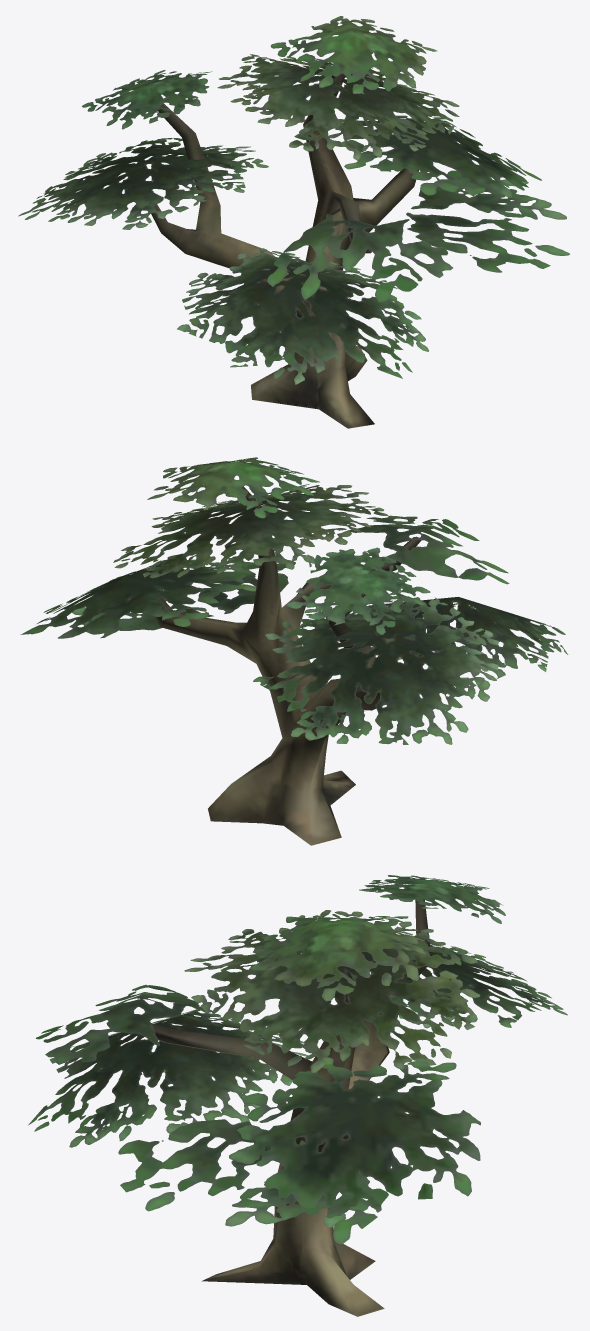
Rendered from tree_armello_low_017.fbx.
The picture shows the model from 3 angles, top to bottom: view 1: azimuth 30°, elevation 25°; view 2: azimuth 150°, elevation 25°; view 3: azimuth 270°, elevation 25°; orthographic projection. The views are drawn at different scales.
Parts seen in each view (by area): view 1: polySurface278; view 2: polySurface278; view 3: polySurface278.
Part boxes in pixels (box(x1,y1,x2,y2)): polySurface278: box(18, 16, 569, 428); polySurface278: box(20, 457, 568, 845); polySurface278: box(28, 875, 567, 1316).
Size of the model in its own units: 23.61 by 16.38 by 21.68.
